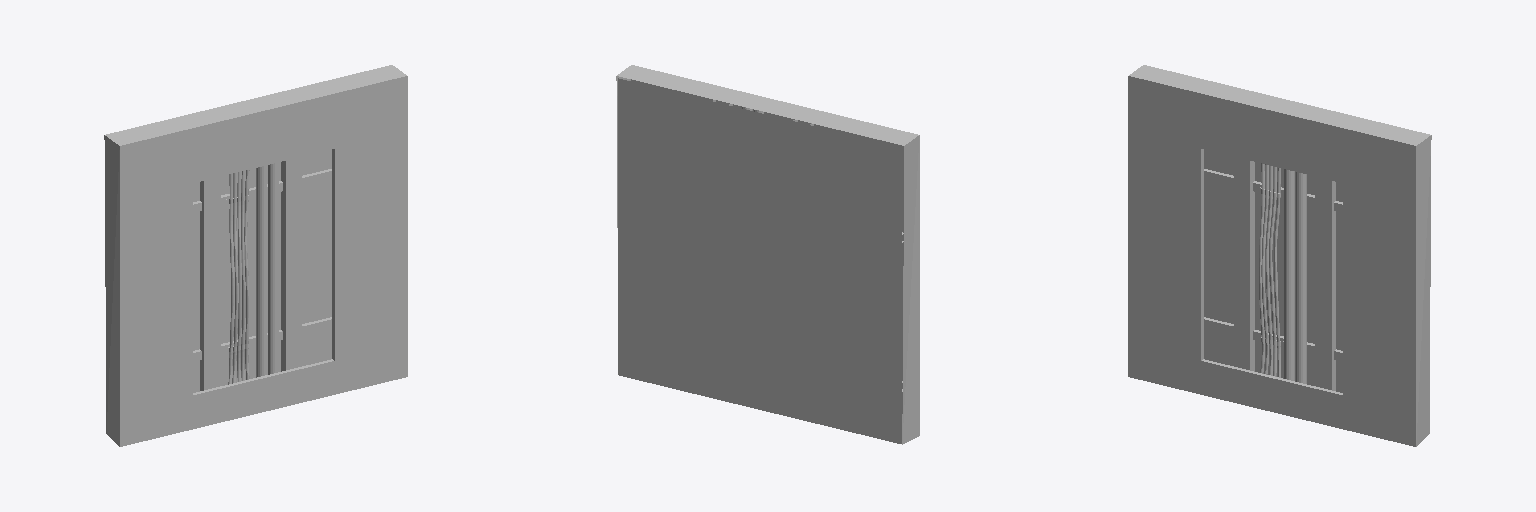
The model's file is wall0622.obj.
3 renders of one model, left to right at view 1: azimuth 30°, elevation 25°; view 2: azimuth 150°, elevation 25°; view 3: azimuth 330°, elevation 25°, orthographic.
Parts seen in each view (by area): view 1: WALL_out, WALL_B, pipe, cable, WALL_A; view 2: WALL_B, WALL_out, WALL_A; view 3: WALL_out, WALL_B, pipe, cable, WALL_A.
Boxes of the visible parts, <box> form: WALL_out: <box>104,65,407,446</box>; WALL_B: <box>193,150,331,392</box>; pipe: <box>256,162,278,377</box>; cable: <box>228,170,249,384</box>; WALL_A: <box>193,149,334,394</box>; WALL_B: <box>618,78,903,443</box>; WALL_out: <box>616,65,919,444</box>; WALL_A: <box>631,79,903,413</box>; WALL_out: <box>1128,65,1431,446</box>; WALL_B: <box>1204,150,1342,392</box>; pipe: <box>1284,169,1306,383</box>; cable: <box>1259,163,1280,377</box>; WALL_A: <box>1201,149,1342,394</box>.
Bounding box in the file's own units: 142 × 142 × 13.